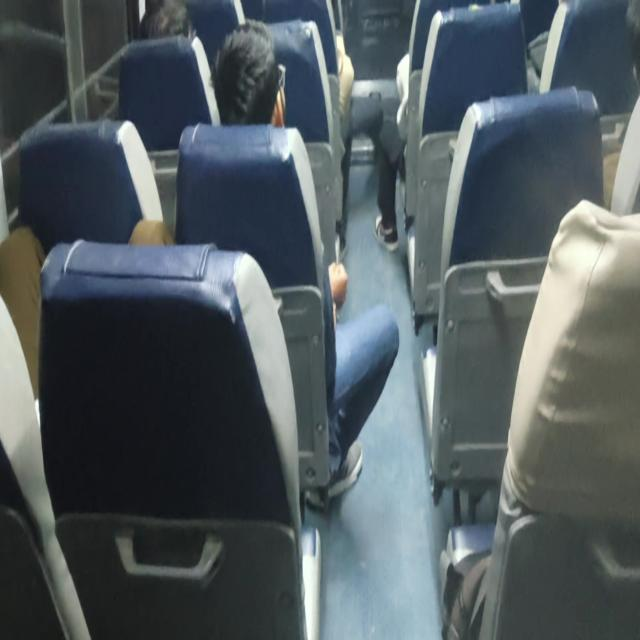person: (227, 20, 289, 136), (128, 0, 205, 69), (608, 0, 639, 119)
